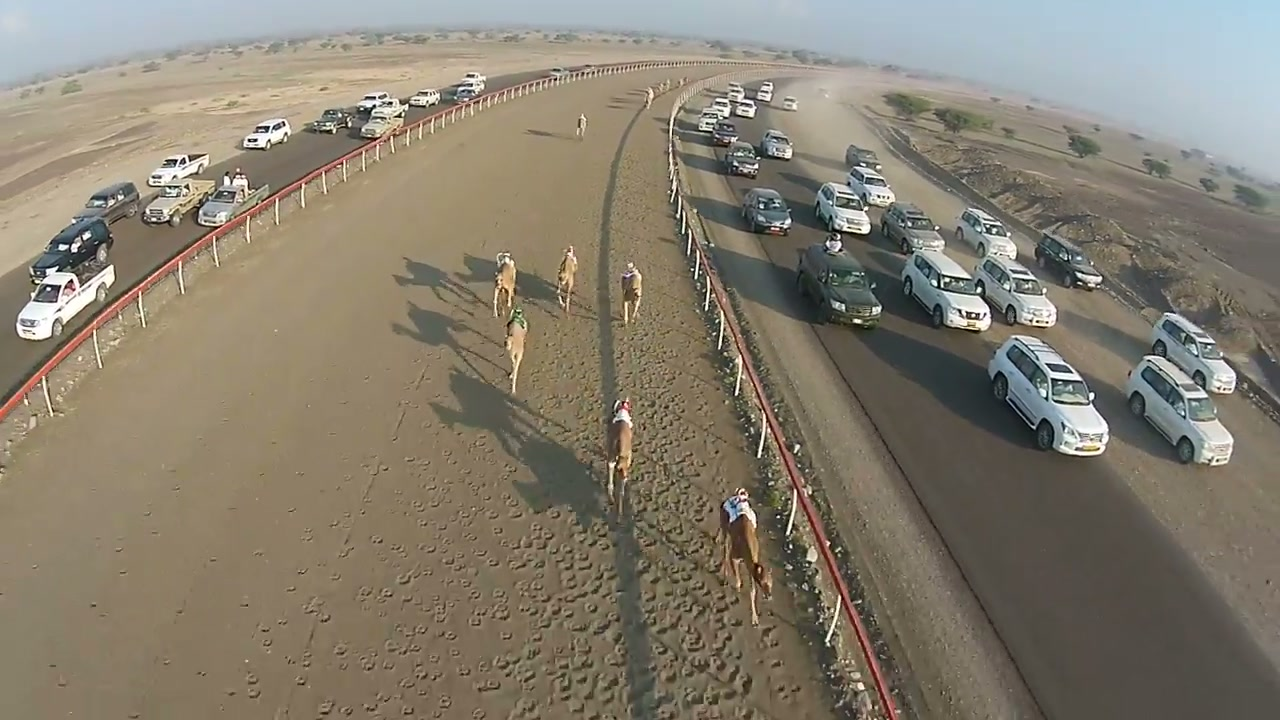animal_foot_print: (333, 300, 808, 719)
